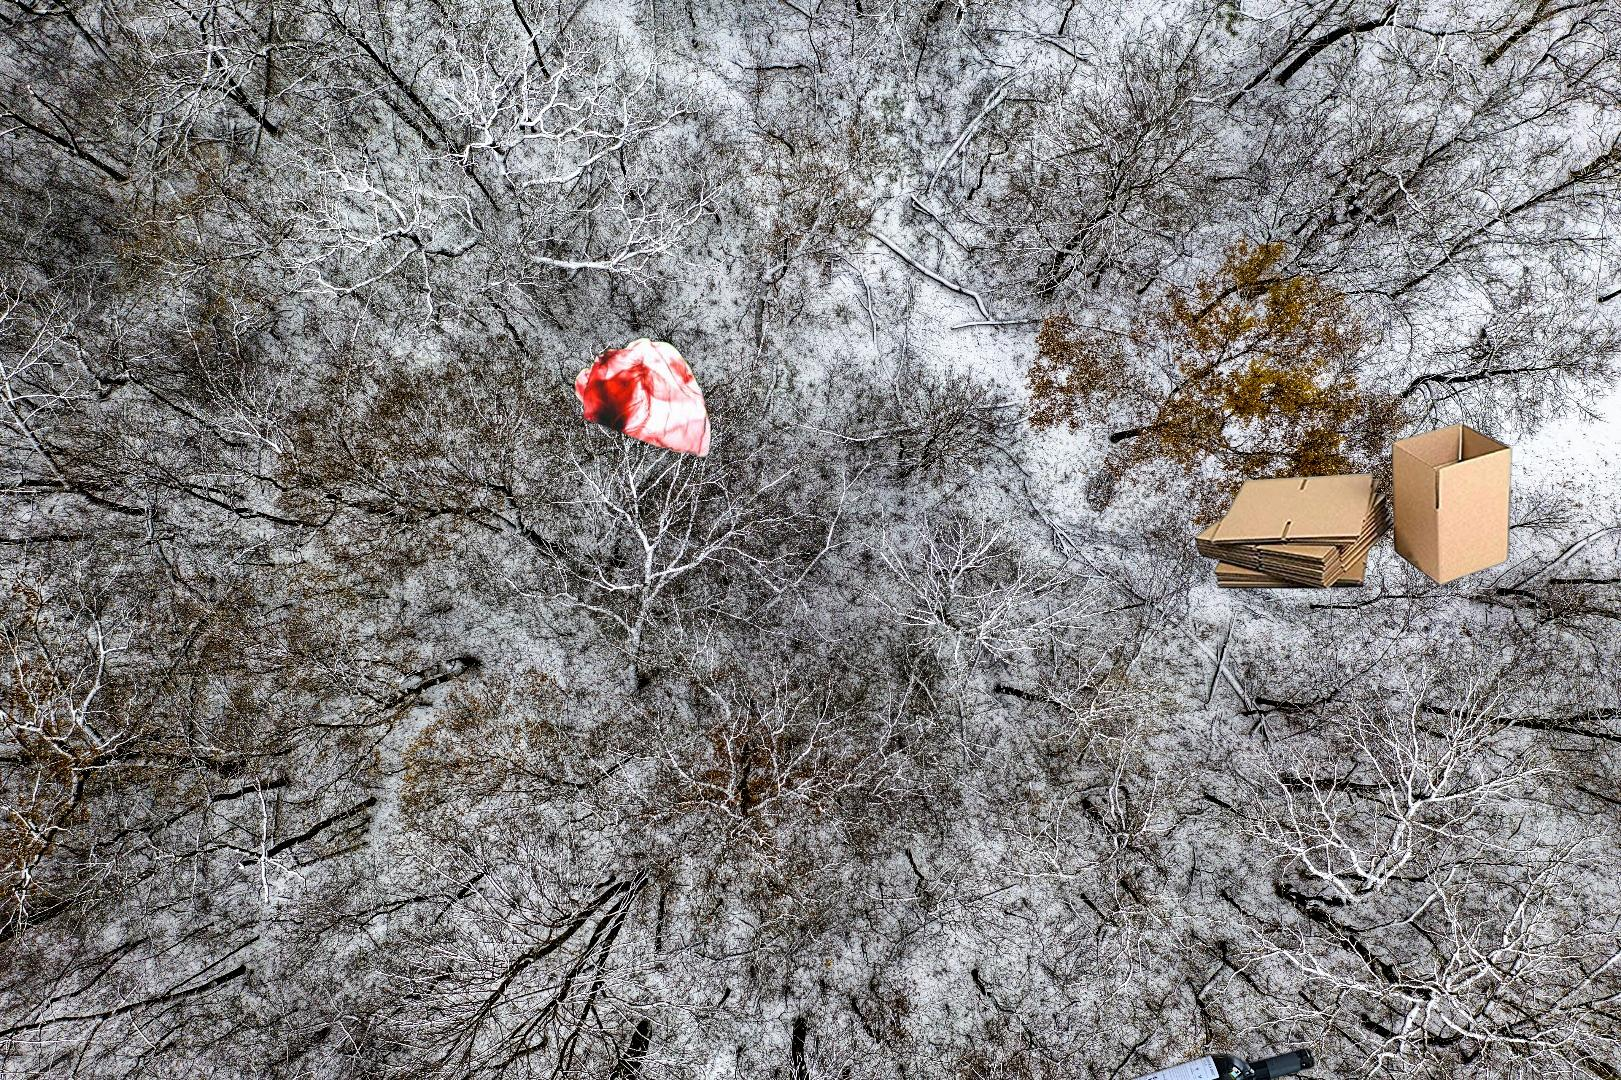glass: (1085, 1041, 1318, 1080)
plastic-bag: (571, 334, 713, 491)
trashbox-cardboard: (1193, 422, 1513, 589)
